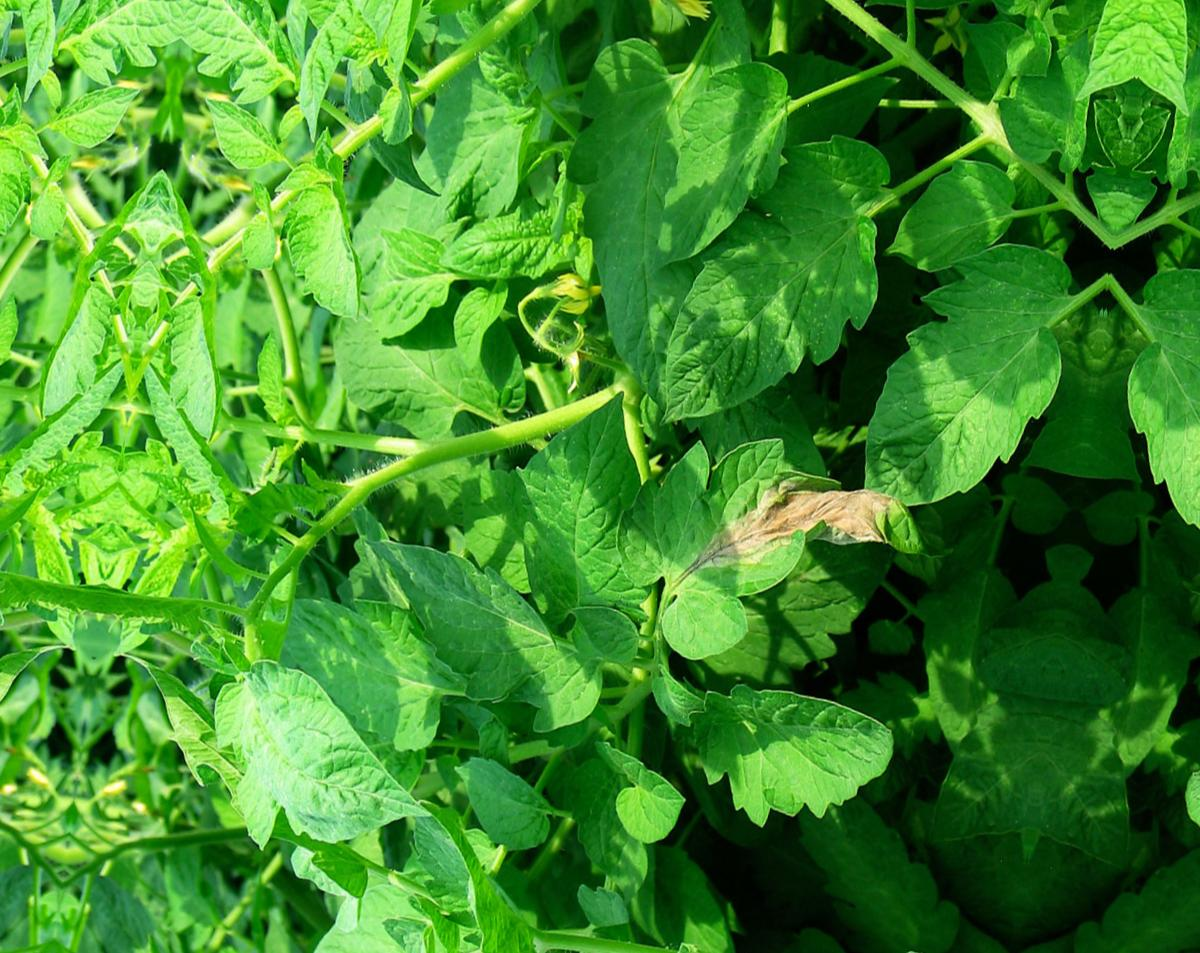Tomato leaf: (647, 119, 935, 456), (329, 514, 655, 748), (871, 223, 1090, 534), (635, 428, 878, 671), (241, 592, 510, 770), (649, 669, 912, 851), (632, 59, 819, 269), (881, 145, 1030, 292), (282, 159, 378, 335), (293, 883, 505, 953)
